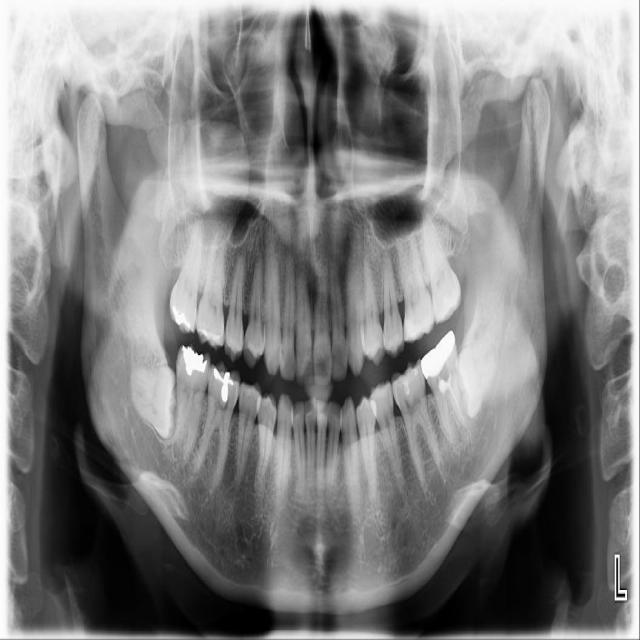52: (171, 343, 216, 392), (206, 360, 242, 412), (169, 278, 197, 336)
73: (427, 359, 472, 447), (596, 570, 604, 580)
BioHorizons Implant: (417, 204, 466, 325)
Biomet 3i Implant: (451, 333, 508, 420)
Blue Sky Bio Implant: (416, 329, 471, 447)
Caries: (167, 216, 205, 336)
Implant: (176, 344, 211, 458)
Keystone Dental Implant: (130, 364, 176, 440)
